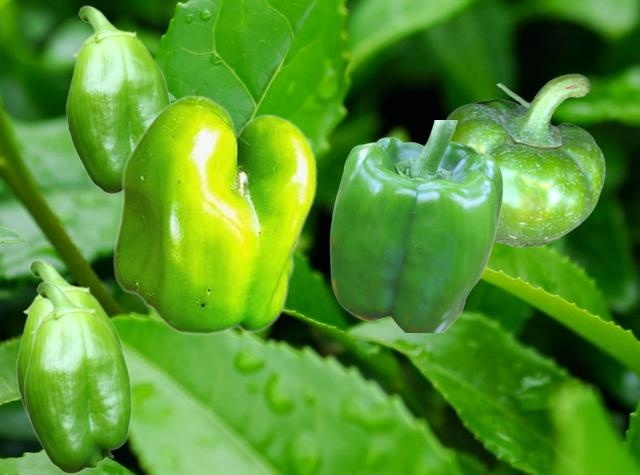bell_pepper: (112, 94, 316, 334), (329, 120, 502, 331), (445, 73, 604, 246), (23, 281, 131, 473), (65, 5, 170, 193), (15, 259, 125, 419)
